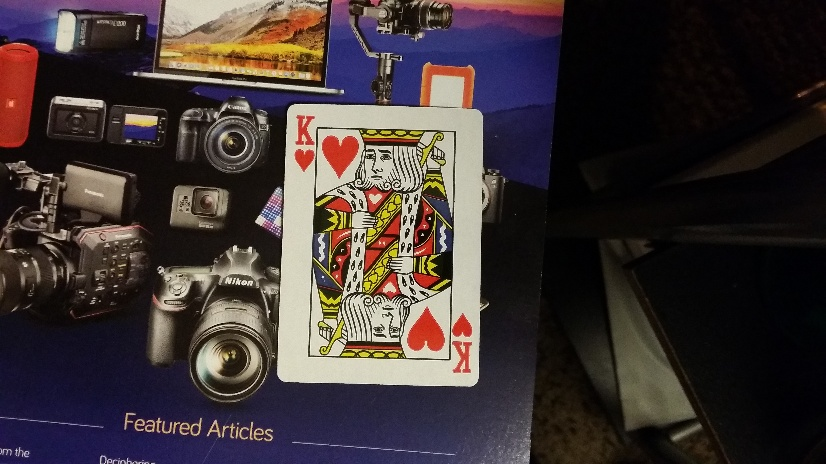Hk: (452, 309, 475, 380), (293, 112, 317, 173)
